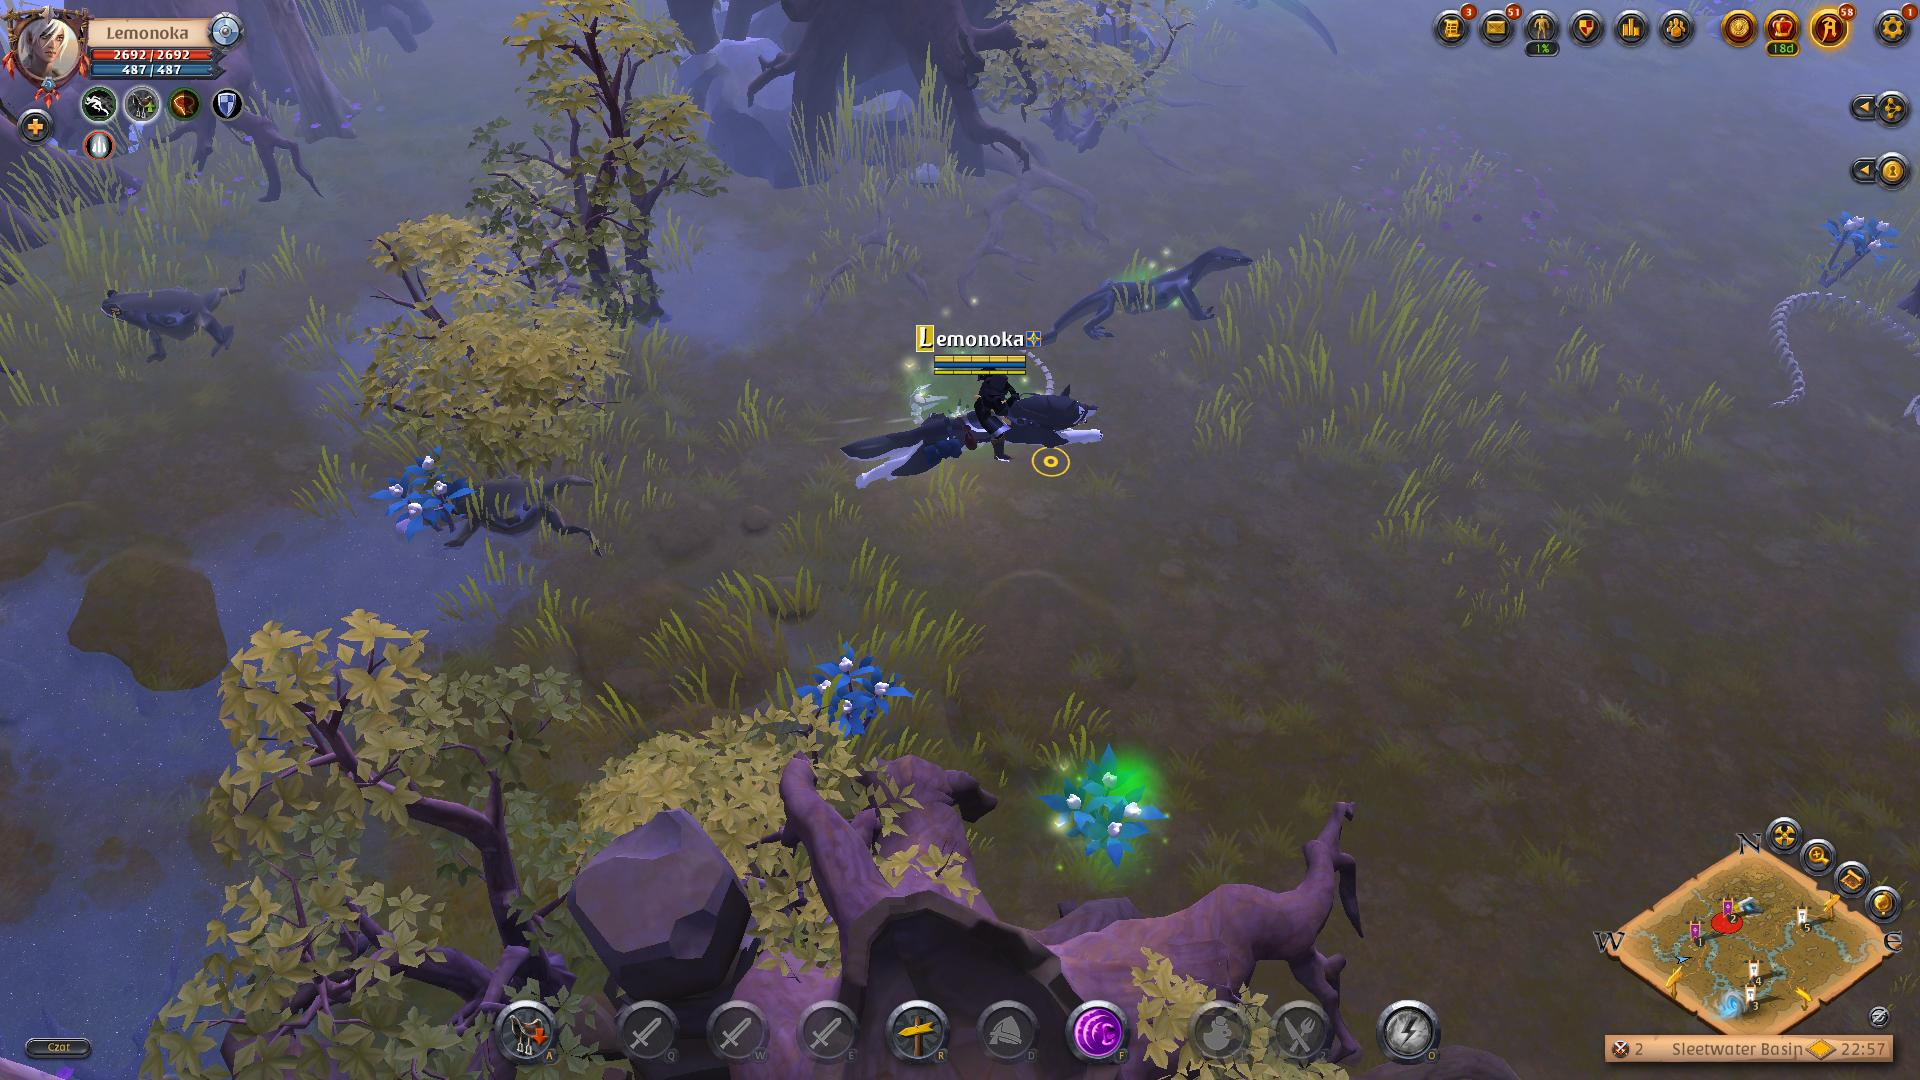fiber tier 4: (1044, 735, 1167, 876), (789, 637, 909, 748), (380, 450, 465, 543), (1818, 207, 1896, 295)
